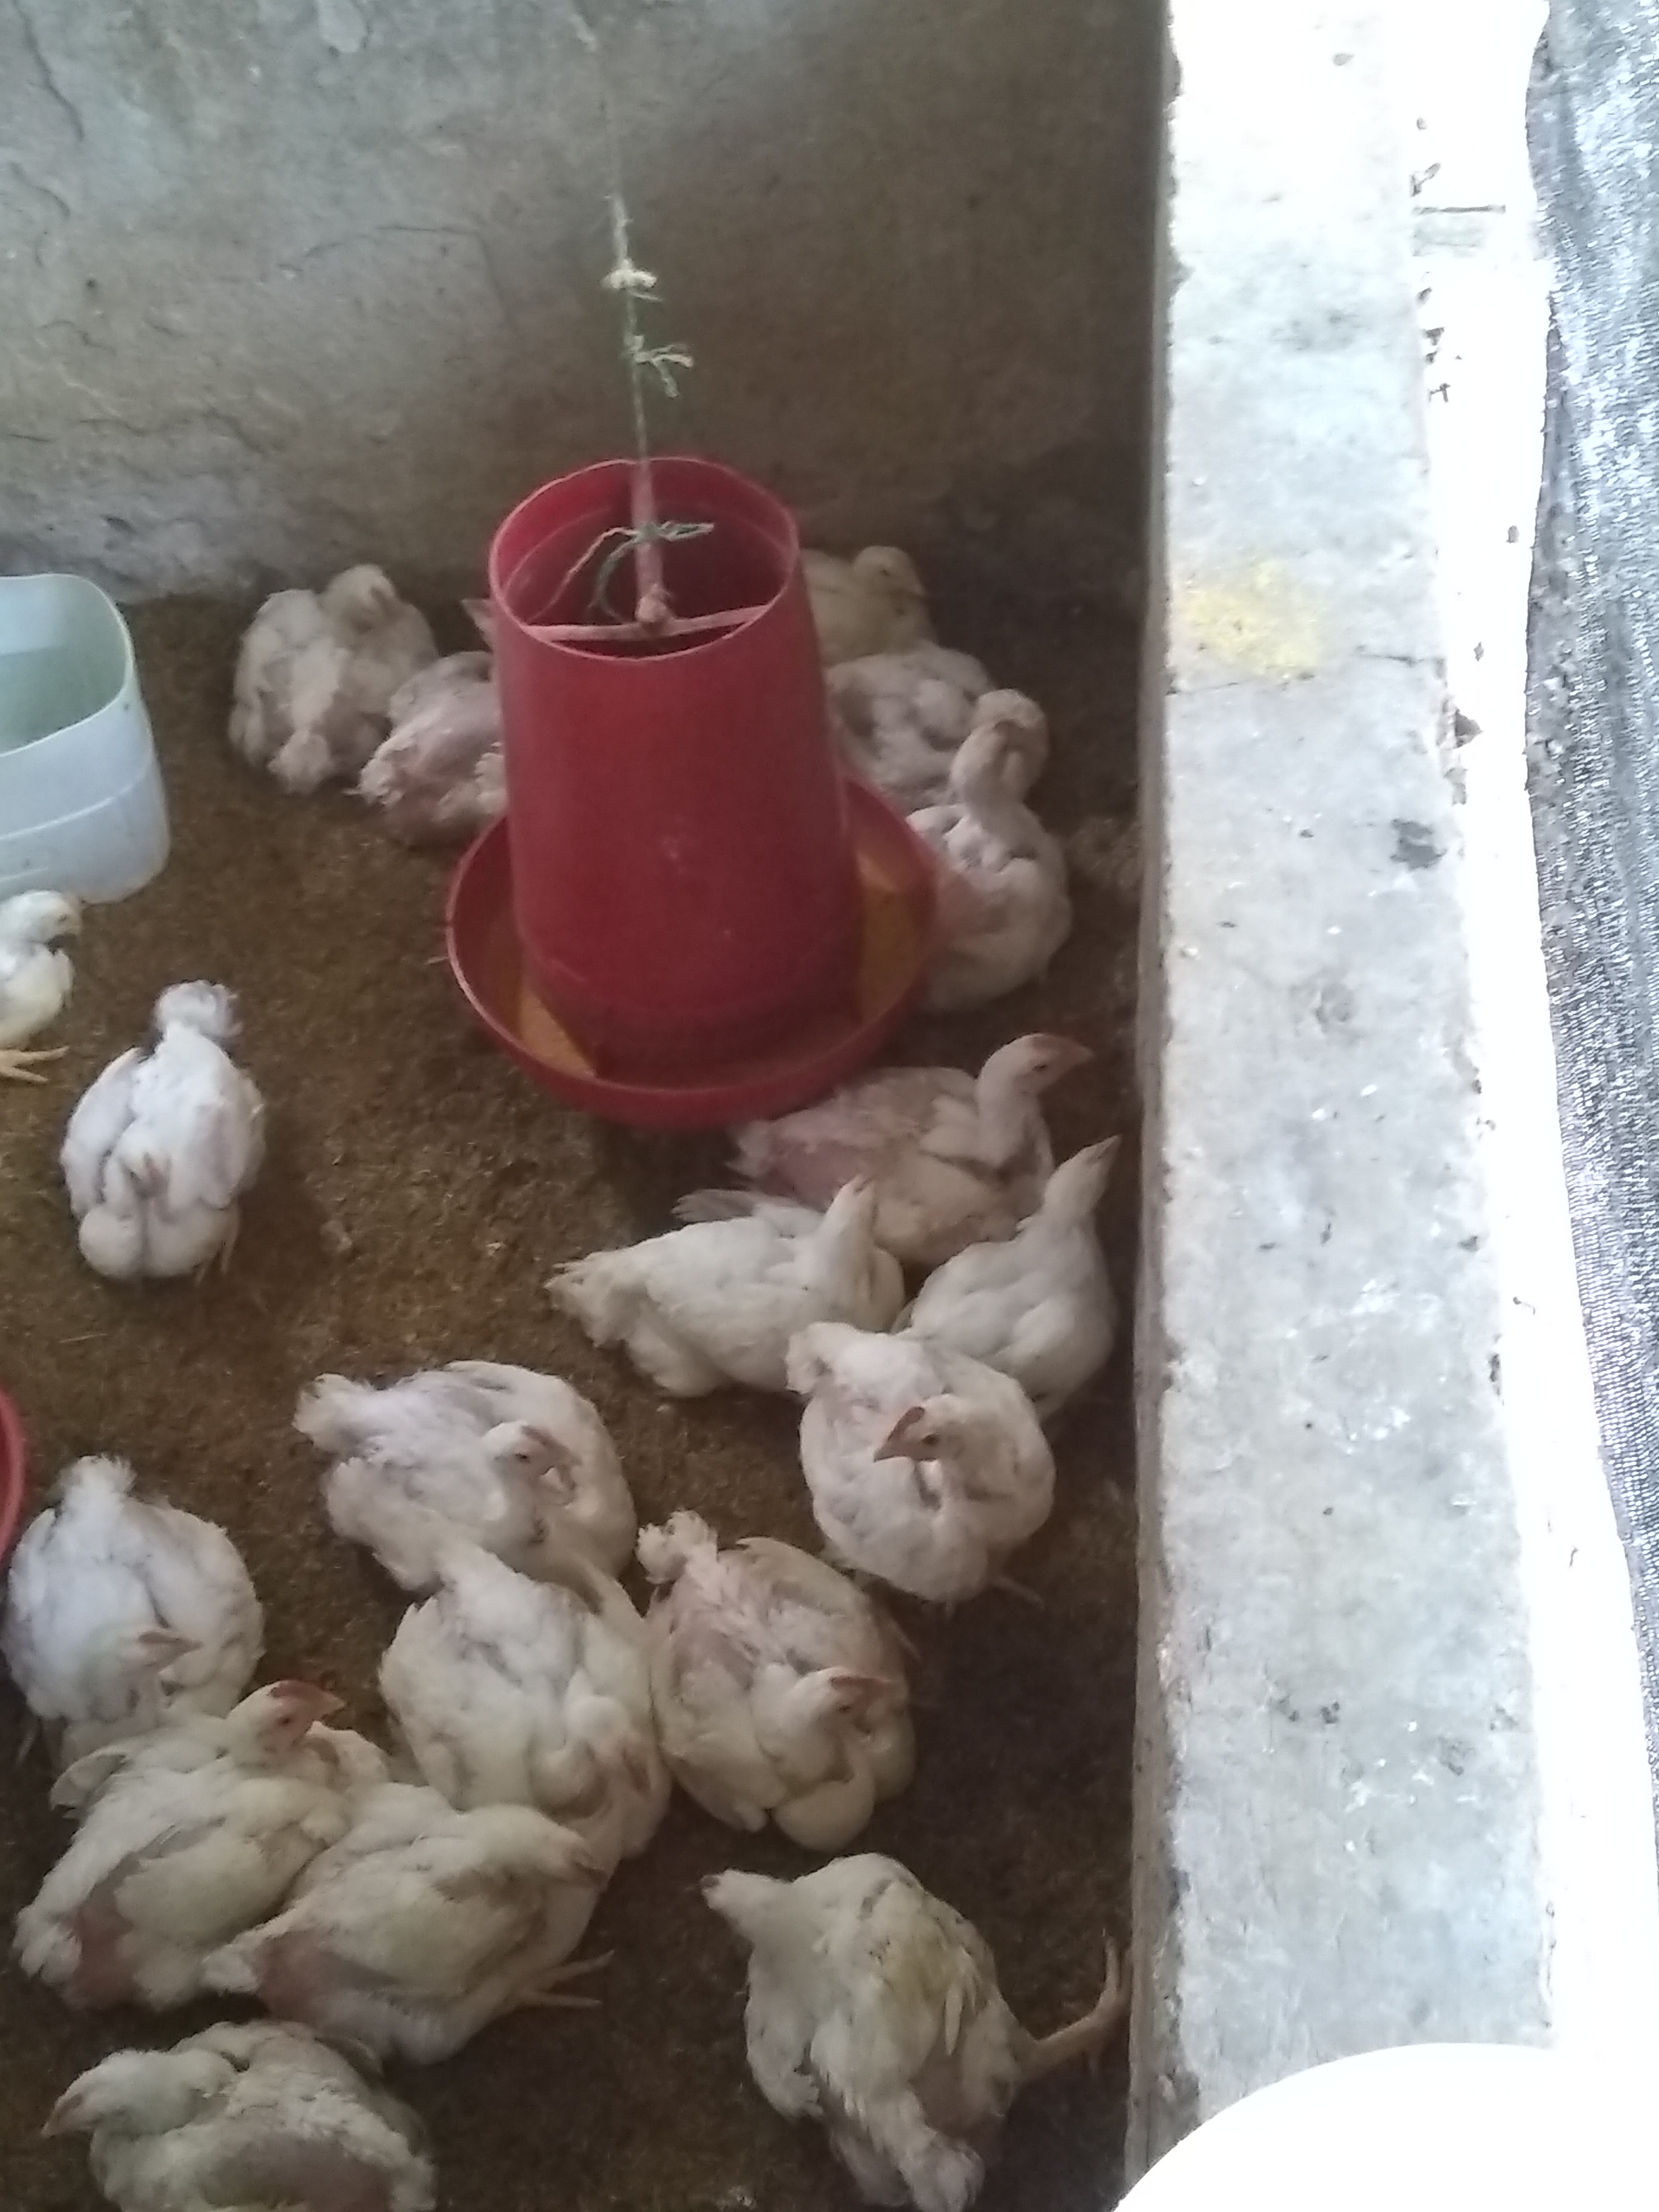Pollos: (688, 1818, 1159, 2212), (0, 1669, 305, 2038), (631, 1524, 951, 1839), (272, 1348, 674, 1592), (373, 1524, 694, 1824), (291, 1804, 631, 2087), (538, 1155, 927, 1392), (762, 984, 1126, 1228), (58, 970, 301, 1329), (0, 1440, 281, 1723), (24, 2041, 484, 2212), (756, 1339, 1063, 1576), (931, 1144, 1194, 1402), (375, 583, 547, 838), (221, 547, 415, 773), (927, 716, 1056, 981), (817, 632, 990, 791), (0, 859, 87, 1068), (781, 531, 946, 641)
